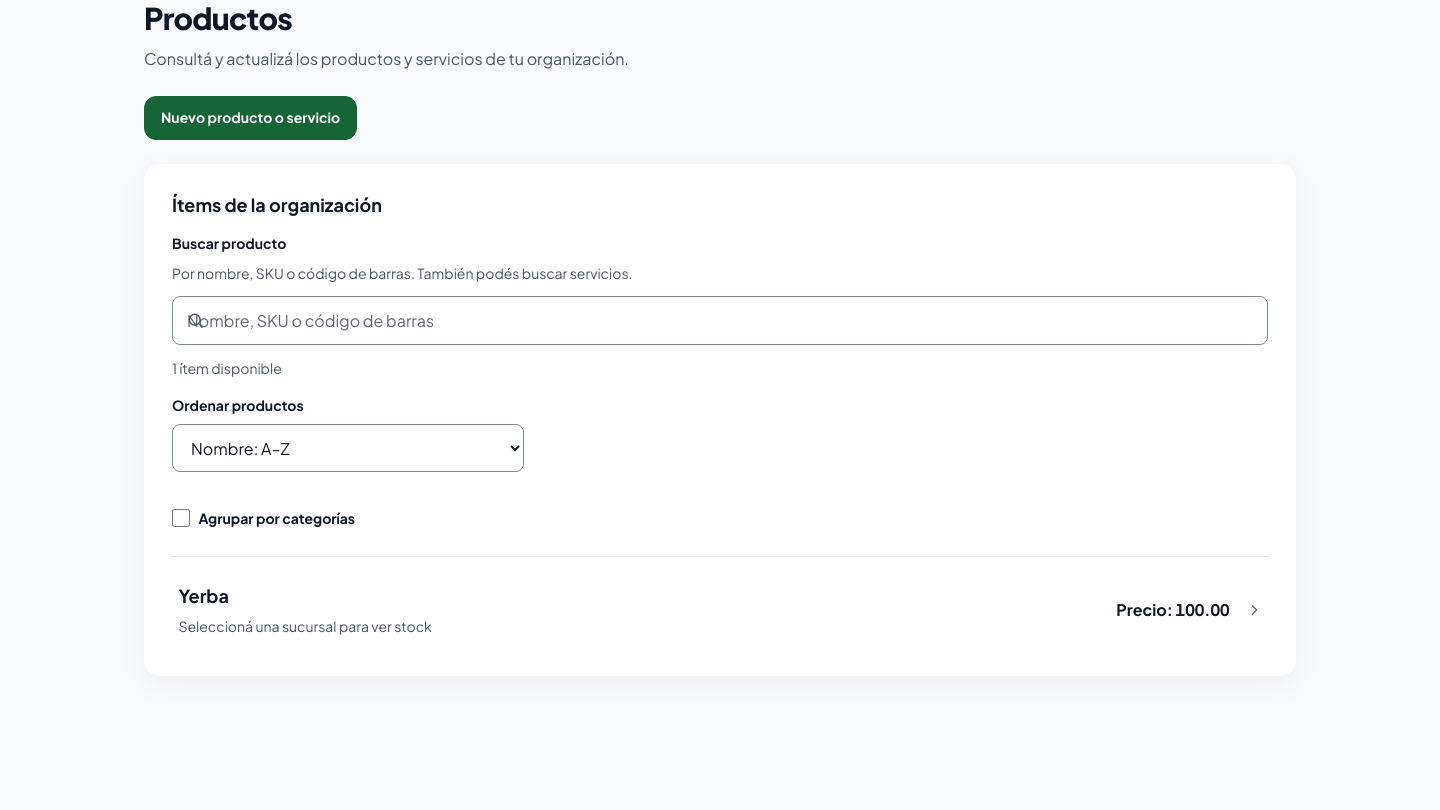
keeps structural controls out of nonstructural editing
Click the text "Yerba" at (204, 596), box [178,584,229,607]
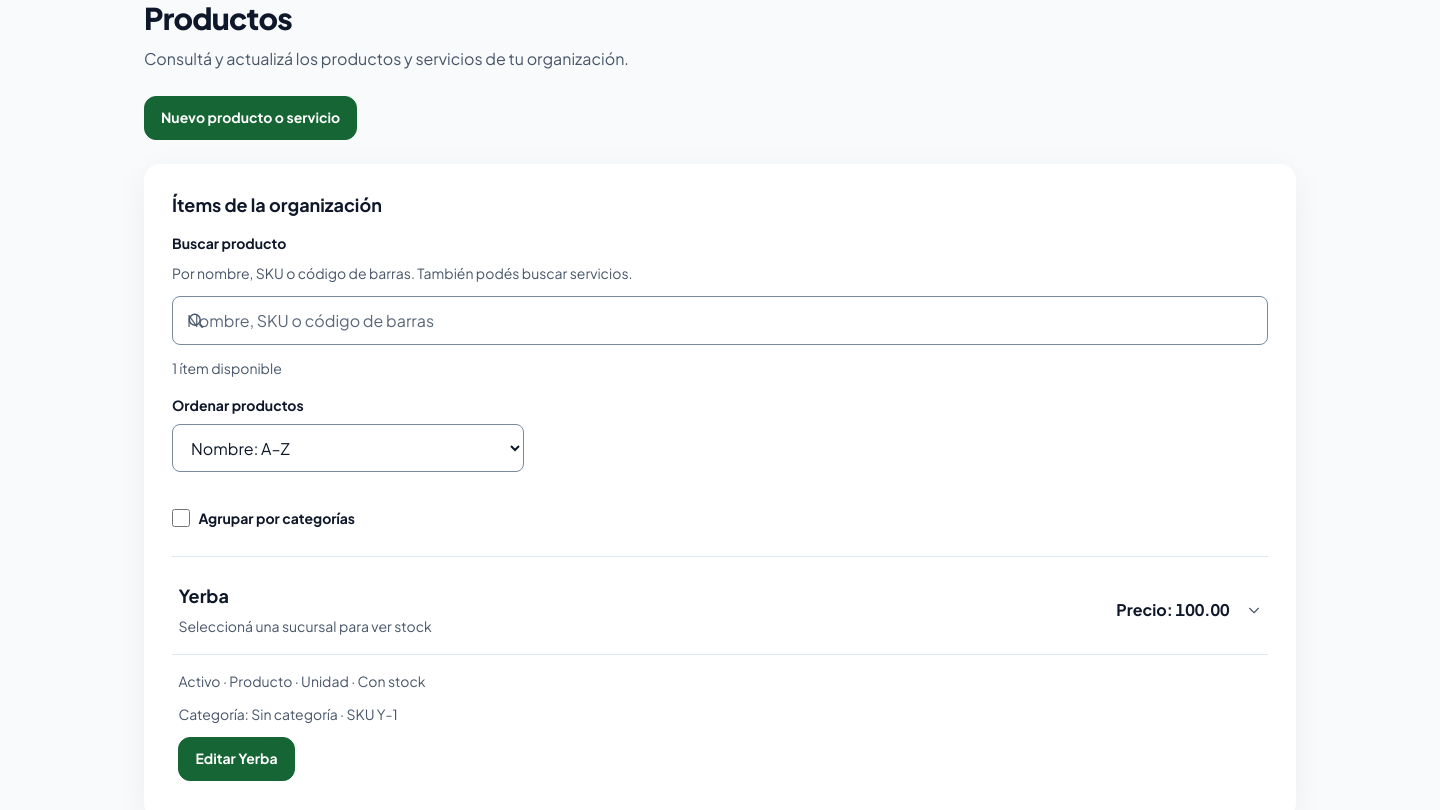
Click the button "Editar Yerba" at (236, 759), box [178,737,295,781]
(page scrolled)
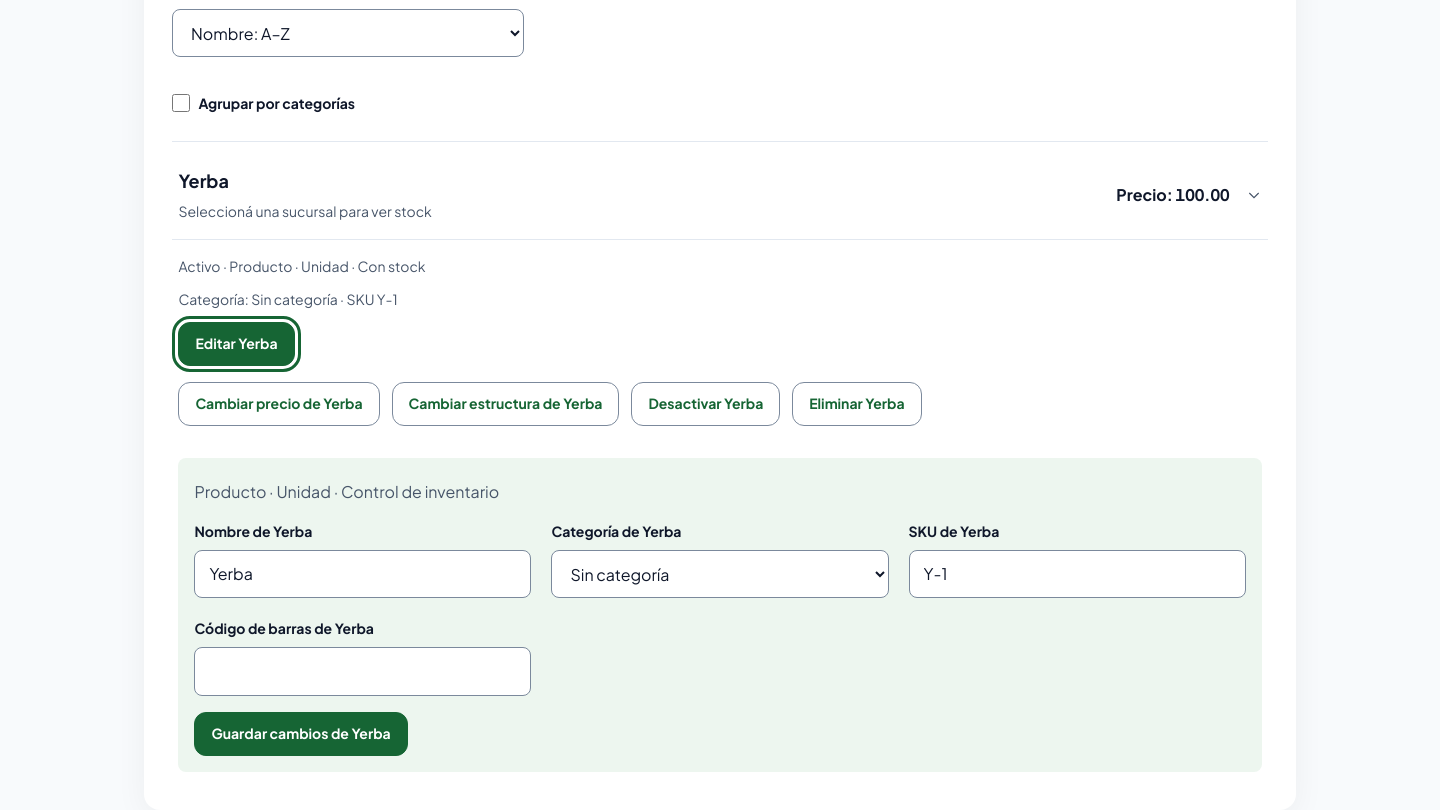
expect the text "Producto · Unidad · Control de inventario" is shown: met, box [194,481,499,502]
